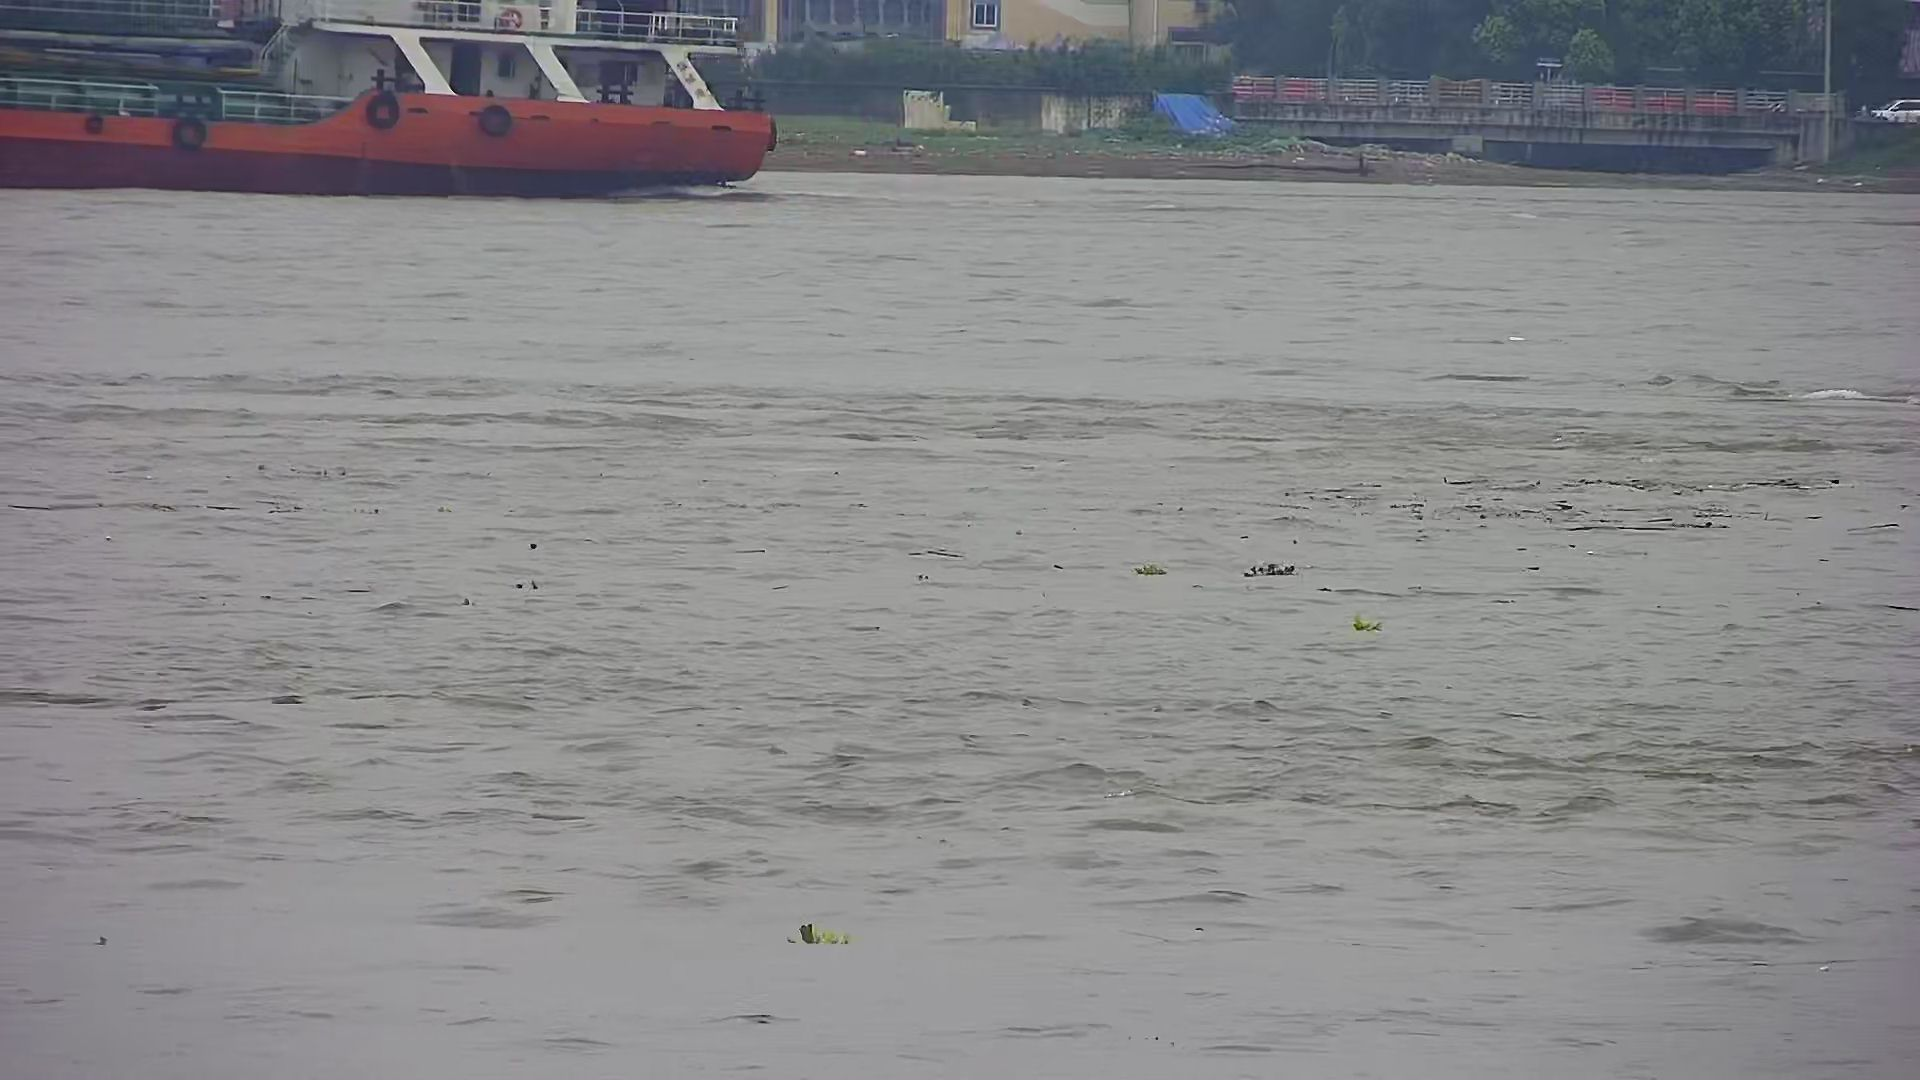ship: (3, 7, 782, 210)
